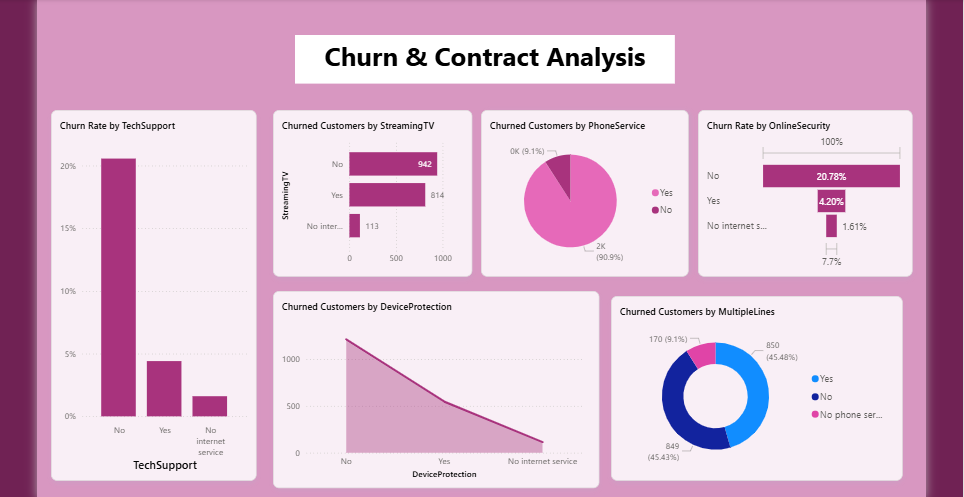

Layout of this report page (visuals, bound fields, positions):
{"tool":"powerbi","page":{"name":"Churn & Contract Analysis","canvas":[1280,720],"ordinal":2},"visuals":[{"type":"textbox","box":[371.7,51.2,547.3,70.2],"z":0},{"type":"clusteredColumnChart","fields":{"Y":["Fact_Churn.Churn Rate"],"Category":["Fact_Churn.TechSupport"]},"box":[20.5,159.5,295.6,534.1],"z":1000},{"type":"funnel","fields":{"Category":["Fact_Churn.OnlineSecurity"],"Y":["Fact_Churn.Churn Rate"]},"box":[951.2,159.5,308.8,240],"z":2000},{"type":"stackedAreaChart","fields":{"Category":["Fact_Churn.DeviceProtection"],"Y":["Fact_Churn.Churned Customers"]},"box":[339.5,420,469.8,283.9],"z":3000},{"type":"pieChart","fields":{"Category":["Fact_Churn.PhoneService"],"Y":["Fact_Churn.Churned Customers"]},"box":[639.5,159.5,298.5,240],"z":4000},{"type":"donutChart","fields":{"Category":["Fact_Churn.MultipleLines"],"Y":["Fact_Churn.Churned Customers"]},"box":[826.8,427.3,420,266.3],"z":5000},{"type":"clusteredBarChart","fields":{"Category":["Fact_Churn.StreamingTV"],"Y":["Fact_Churn.Churned Customers"]},"box":[339.5,159.5,286.8,240],"z":6000}]}

Visuals, with their boxes on the page's 1280x720 design canvas (x1, y1, x2, y2). These are canvas units, not pixel positions in the 964x497 screenshot, which may show the page scaled, cropped or inside an application window:
textbox: select_region(372, 51, 919, 121)
clusteredColumnChart - Fact_Churn.Churn Rate x Fact_Churn.TechSupport: select_region(20, 160, 316, 694)
funnel - Fact_Churn.OnlineSecurity x Fact_Churn.Churn Rate: select_region(951, 160, 1260, 400)
stackedAreaChart - Fact_Churn.DeviceProtection x Fact_Churn.Churned Customers: select_region(340, 420, 809, 704)
pieChart - Fact_Churn.PhoneService x Fact_Churn.Churned Customers: select_region(640, 160, 938, 400)
donutChart - Fact_Churn.MultipleLines x Fact_Churn.Churned Customers: select_region(827, 427, 1247, 694)
clusteredBarChart - Fact_Churn.StreamingTV x Fact_Churn.Churned Customers: select_region(340, 160, 626, 400)
